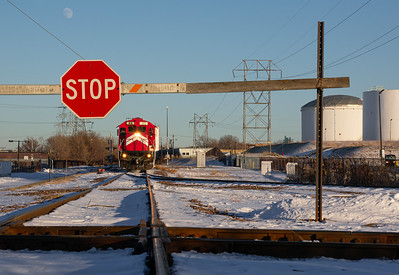StopSign: (60, 59, 122, 119)
